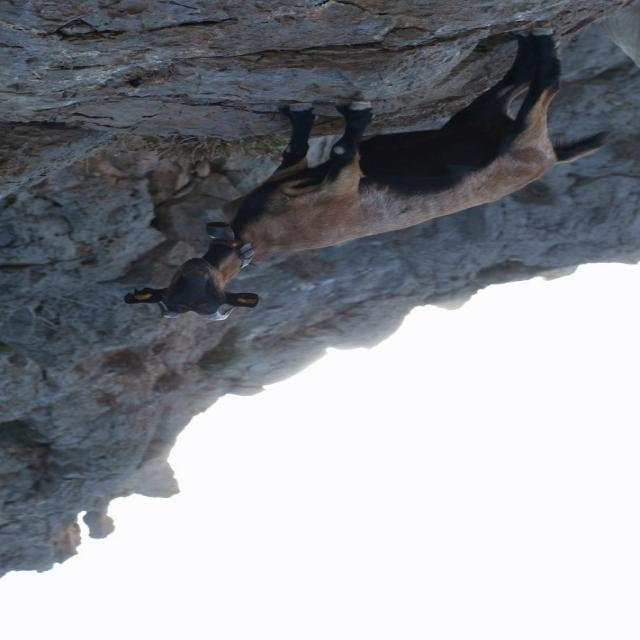Goat: (124, 27, 614, 322)
